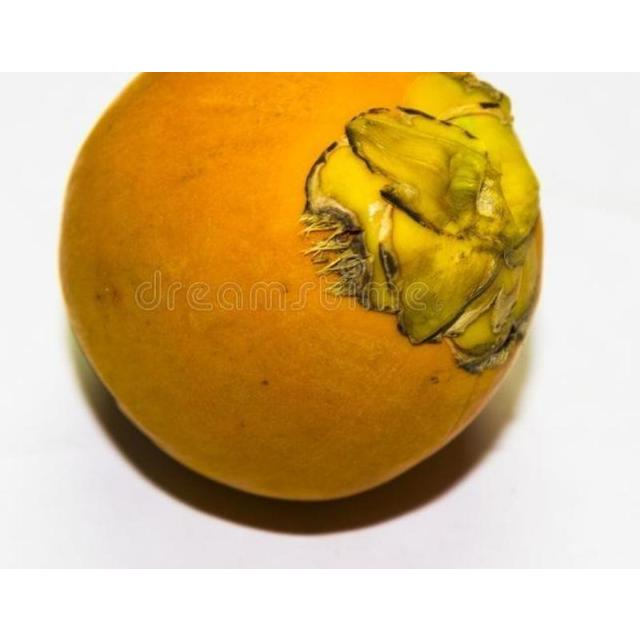good: (57, 71, 546, 505)
